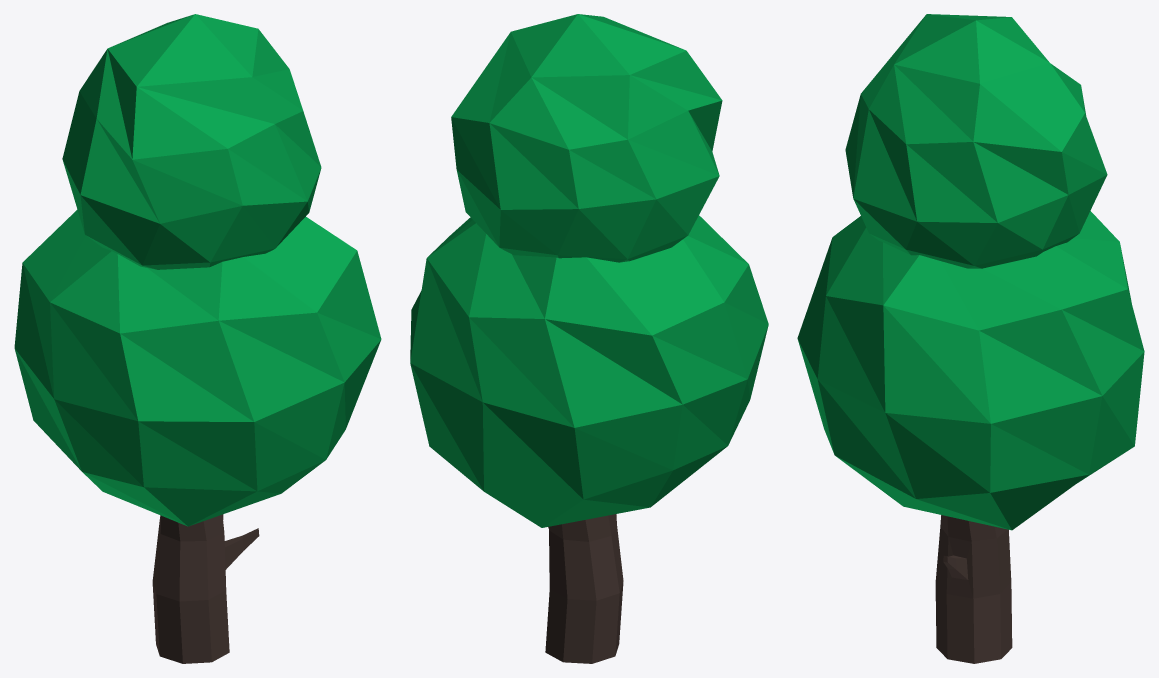
The model's file is tree.fbx.
The picture shows the model from 3 angles, left to right: view 1: azimuth 30°, elevation 25°; view 2: azimuth 150°, elevation 25°; view 3: azimuth 270°, elevation 25°; orthographic projection.
Parts seen in each view (by area): view 1: tree; view 2: tree; view 3: tree.
Boxes of the visible parts, box(x1,y1,x2,y2) form: tree: box(14, 14, 381, 663); tree: box(410, 14, 768, 663); tree: box(797, 14, 1144, 663).
Bounding box in the file's own units: 4.57 × 8.8 × 4.4.
